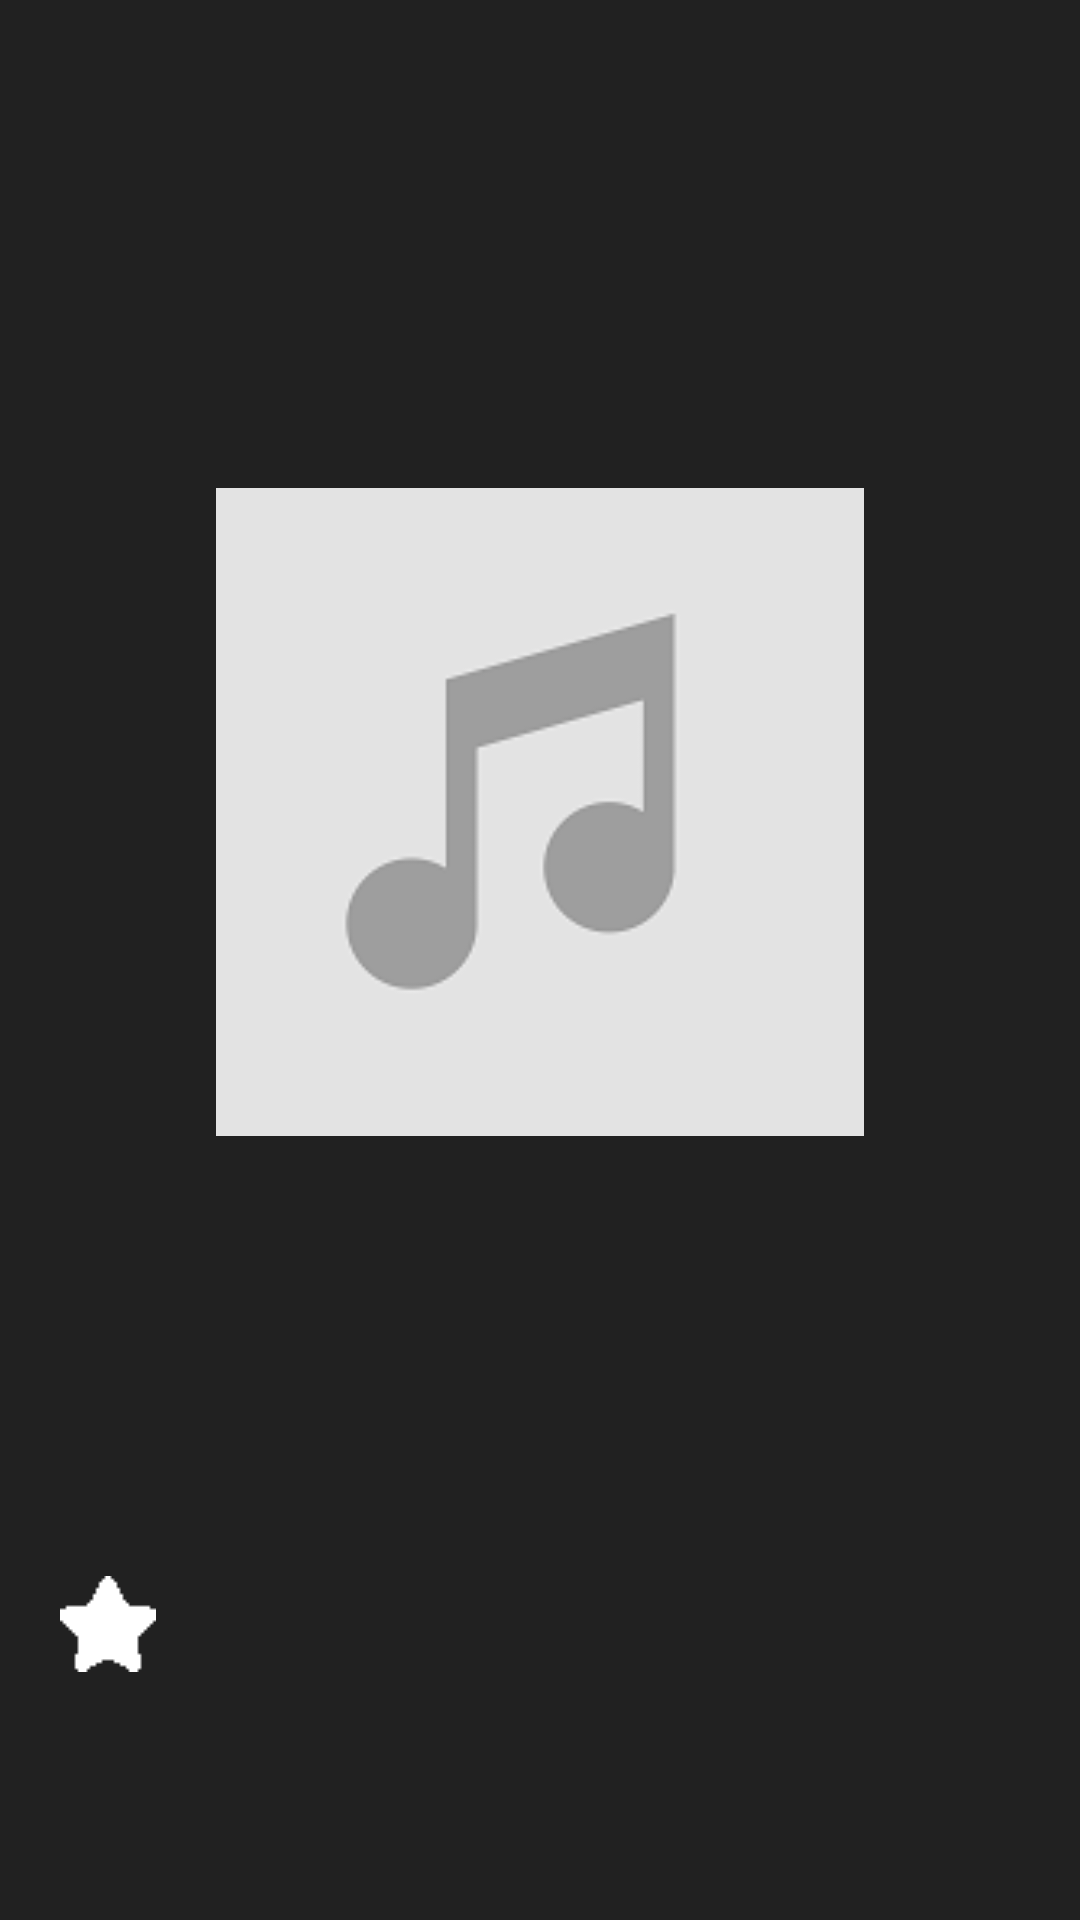

Icons on this 1080px×1920px Android screen, each with its box as (x1, y1, x2, y2):
fav: (60, 1576, 156, 1672)
